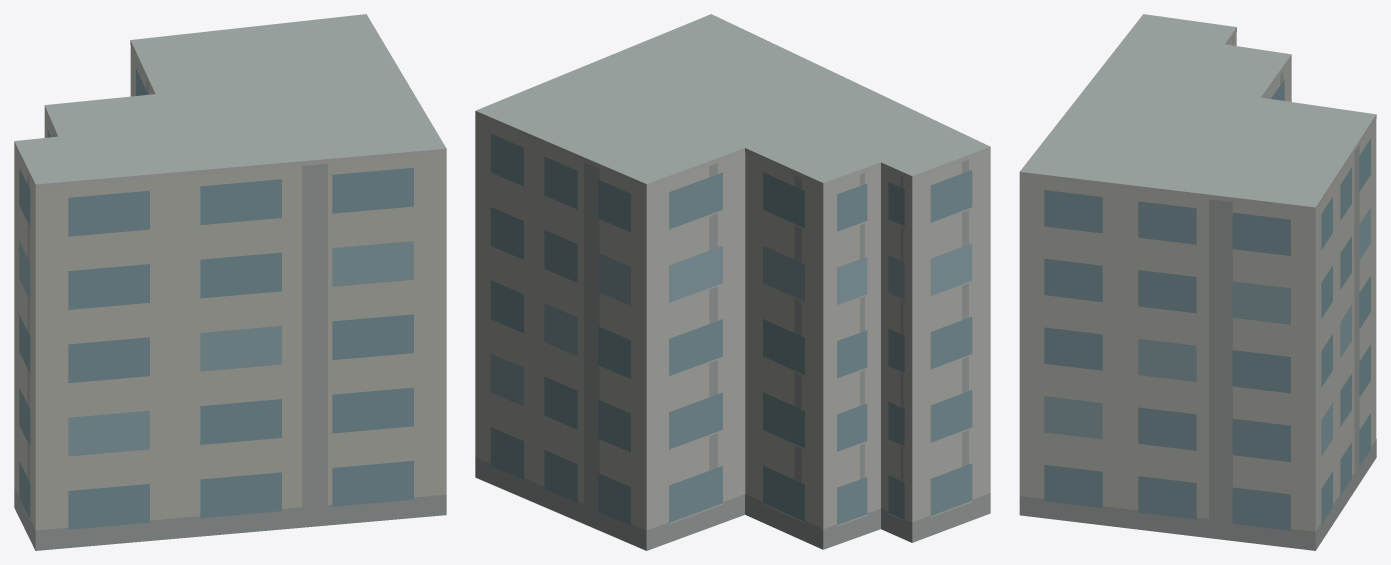
File: survey-upis-32804061.glb
3 views of the same model, side by side, from view 1: azimuth 30°, elevation 25°; view 2: azimuth 150°, elevation 25°; view 3: azimuth 270°, elevation 25° (orthographic). The views are drawn at different scales.
Parts seen in each view (by area): view 1: survey-upis-32804061.tmp; view 2: survey-upis-32804061.tmp; view 3: survey-upis-32804061.tmp.
Boxes of the visible parts, box(x1,y1,x2,y2) form: survey-upis-32804061.tmp: box(14, 14, 446, 550); survey-upis-32804061.tmp: box(475, 14, 990, 550); survey-upis-32804061.tmp: box(1019, 14, 1376, 550).
Size of the model in its own units: 22.26 by 18.42 by 17.36.
